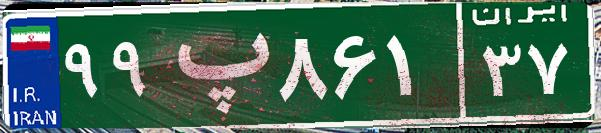1: (385, 28, 445, 110)
3: (475, 38, 525, 113)
6: (330, 28, 385, 110)
7: (525, 38, 570, 115)
8: (273, 28, 330, 110)
9: (57, 26, 110, 107), (110, 28, 158, 105)
پ: (158, 15, 273, 115)
